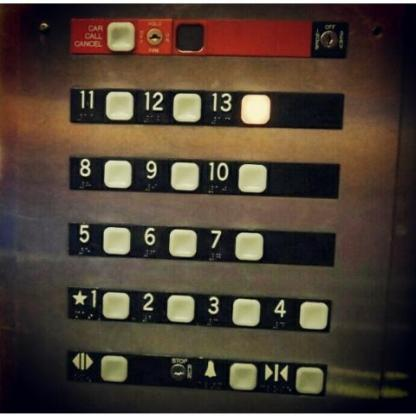10: (204, 156, 271, 196)
11: (66, 85, 135, 125)
12: (137, 86, 202, 126)
13: (206, 87, 273, 129)
2: (134, 289, 196, 325)
3: (200, 291, 262, 330)
4: (264, 295, 332, 334)
5: (65, 220, 132, 258)
6: (136, 221, 199, 261)
7: (202, 224, 267, 264)
8: (66, 153, 135, 192)
9: (138, 155, 200, 195)
alarm: (197, 354, 256, 393)
bt_keyhole: (135, 15, 210, 56)
close: (261, 358, 327, 397)
keyhole: (308, 20, 346, 58), (162, 353, 198, 389)
open: (64, 348, 133, 386)
s1: (64, 283, 130, 323)
text: (66, 16, 136, 56)
